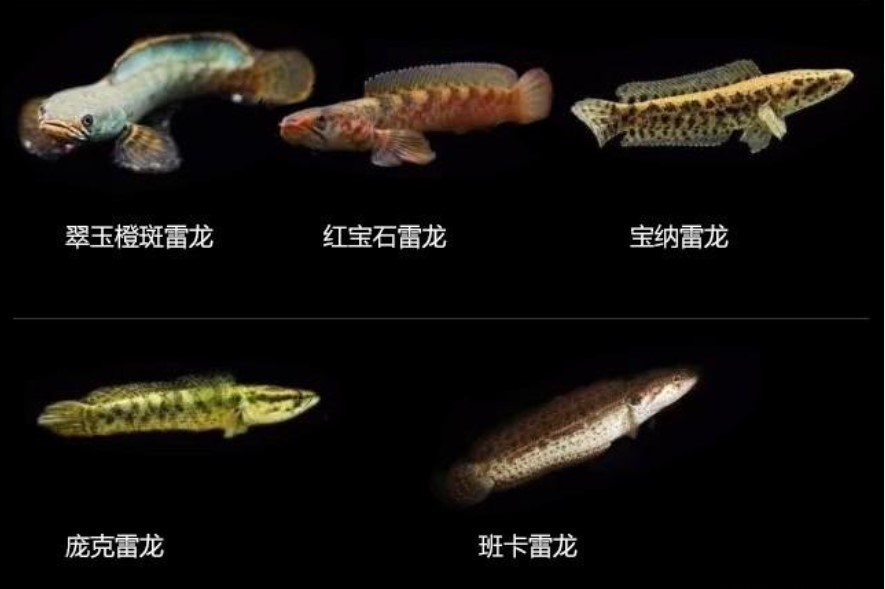Fish: (16, 21, 316, 193), (456, 356, 730, 523), (22, 348, 375, 473), (270, 41, 557, 177), (559, 42, 863, 167)
